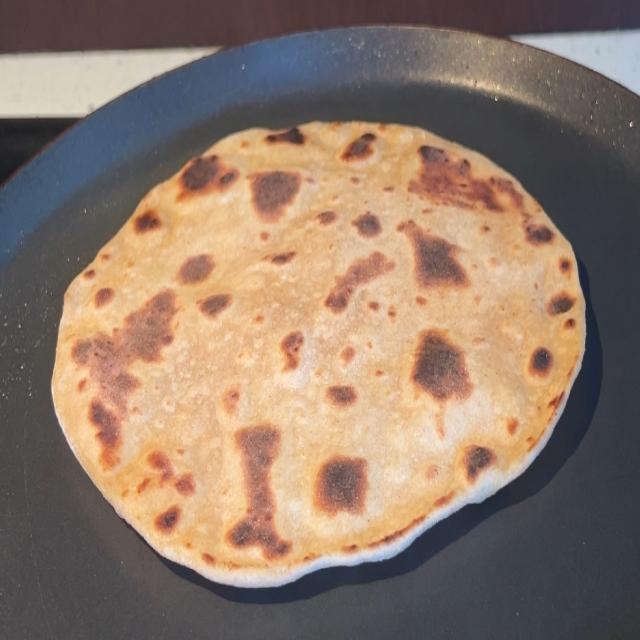ROTI: (58, 122, 580, 576)
